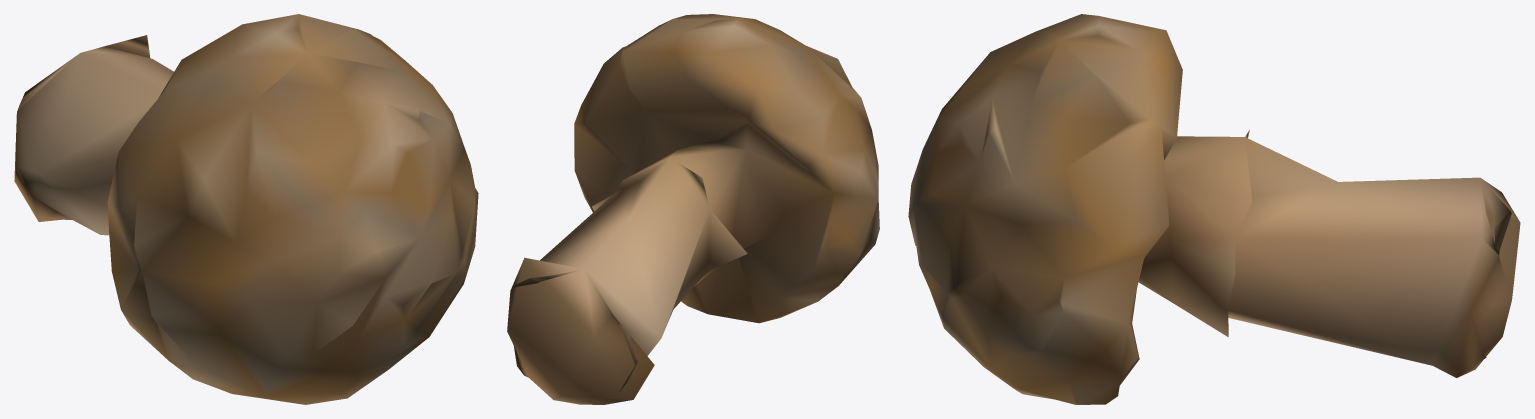
Rendered from forage_matsutake.glb.
The picture shows the model from 3 angles, left to right: view 1: azimuth 30°, elevation 25°; view 2: azimuth 150°, elevation 25°; view 3: azimuth 270°, elevation 25°; orthographic projection. The views are drawn at different scales.
Parts seen in each view (by area): view 1: forage_matsutake; view 2: forage_matsutake; view 3: forage_matsutake.
Boxes of the visible parts, x1,y1,x2,y2 form: forage_matsutake: (14, 14, 478, 404); forage_matsutake: (507, 14, 879, 404); forage_matsutake: (908, 14, 1520, 404).
Bounding box in the file's own units: 0.6397 × 0.6291 × 0.9682.
